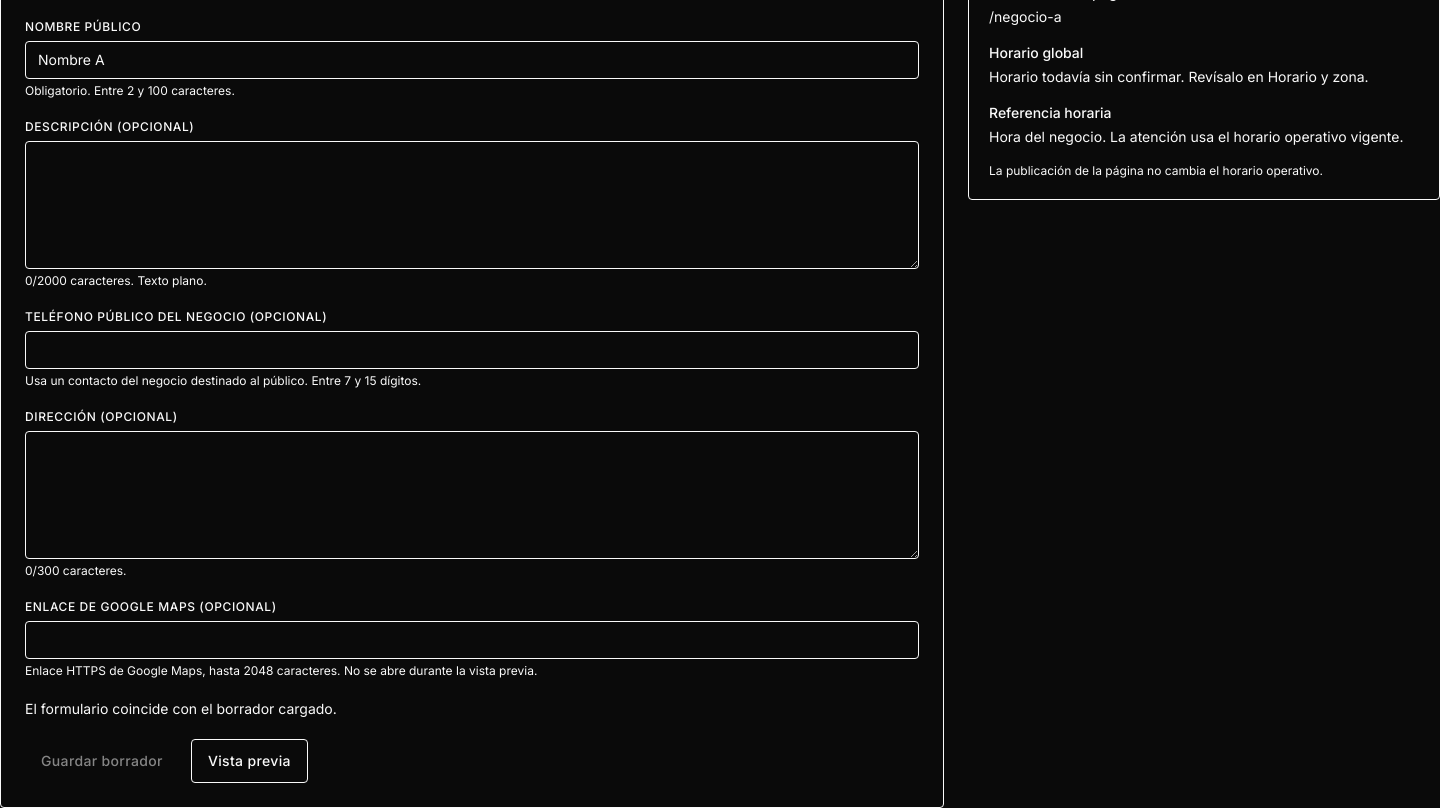
Configuración C2 › ADMIN puede revisar pero no recibe acciones de publicación
(page scrolled)
Expected: the field labelled "Nombre público" is shown, [25,41,919,79]
Click the button "Vista previa".
click(249, 761)  # box [191,739,308,783]
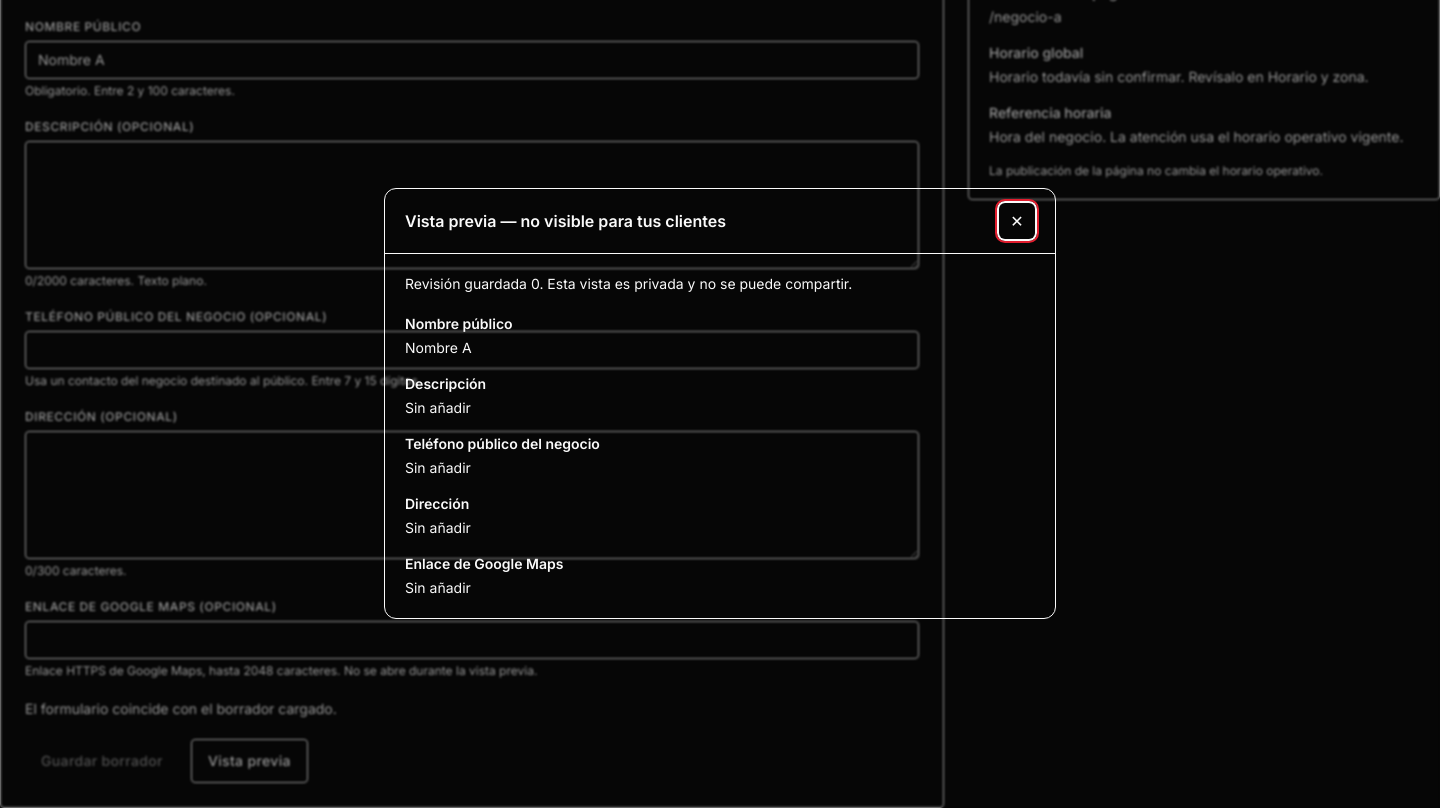
Expected: the text "Revisión guardada 0. Esta vista es privada y no se puede compartir." is shown, [405,274,852,292]
